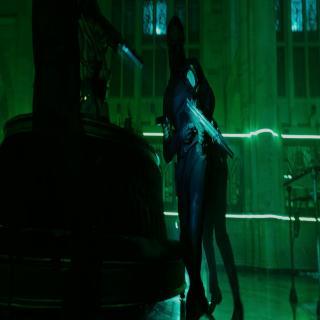gun: (181, 94, 233, 162), (155, 108, 171, 140)
